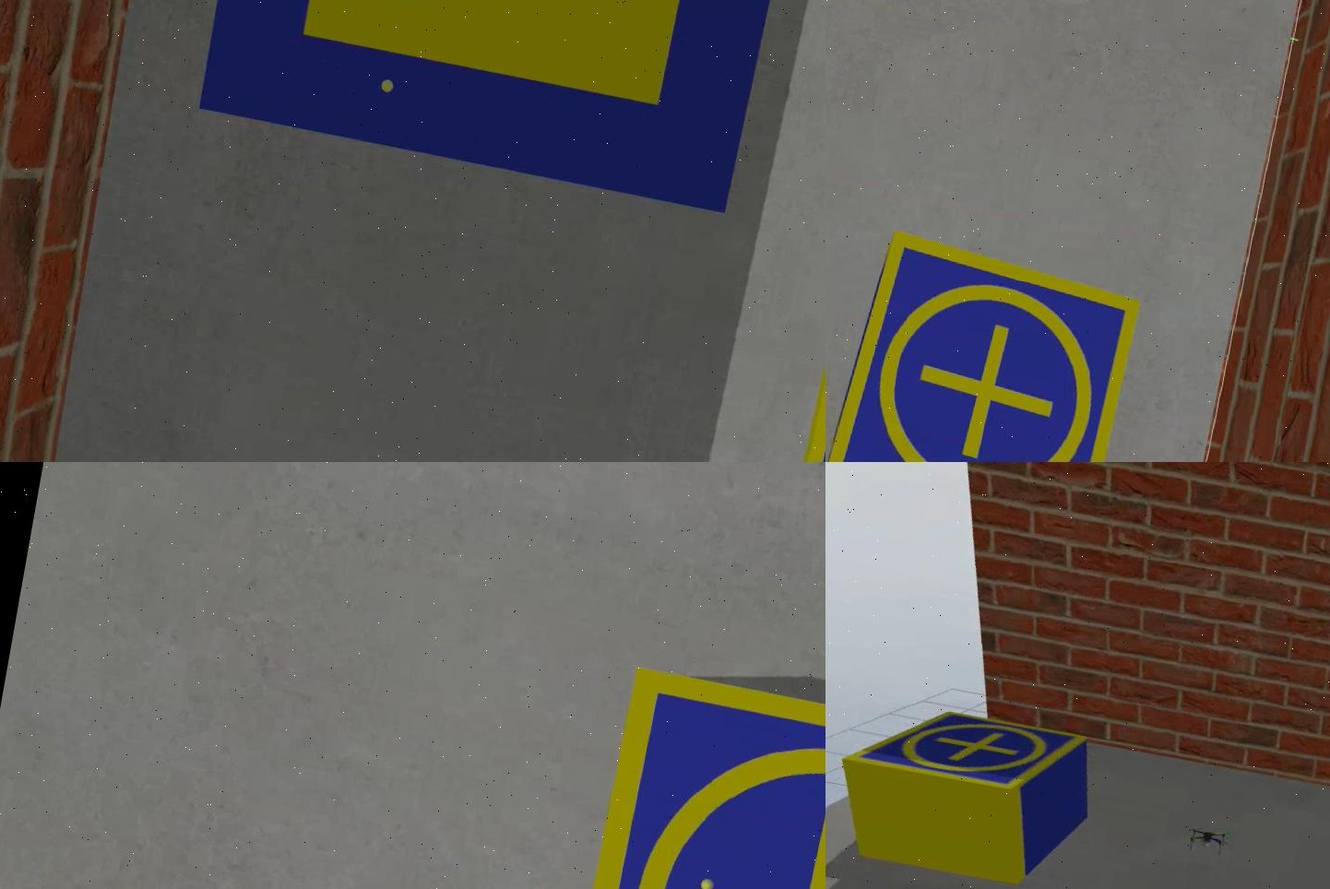large_base: (188, 1, 797, 219)
small_base: (824, 220, 1146, 462), (549, 660, 824, 889), (839, 698, 1087, 809)
